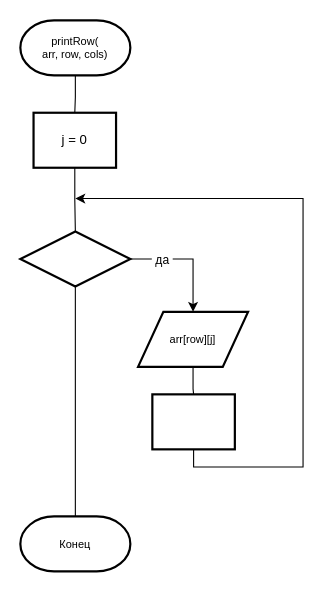
The diagram is 331 pixels wide and 591 high, and some of its shapes have lost their labels. The shapes that lost their labels are listed below. From the top down, each one's centre as x and y in pixels, then its label:
the point at 75,258: j < cols?
the point at 193,421: j++;
